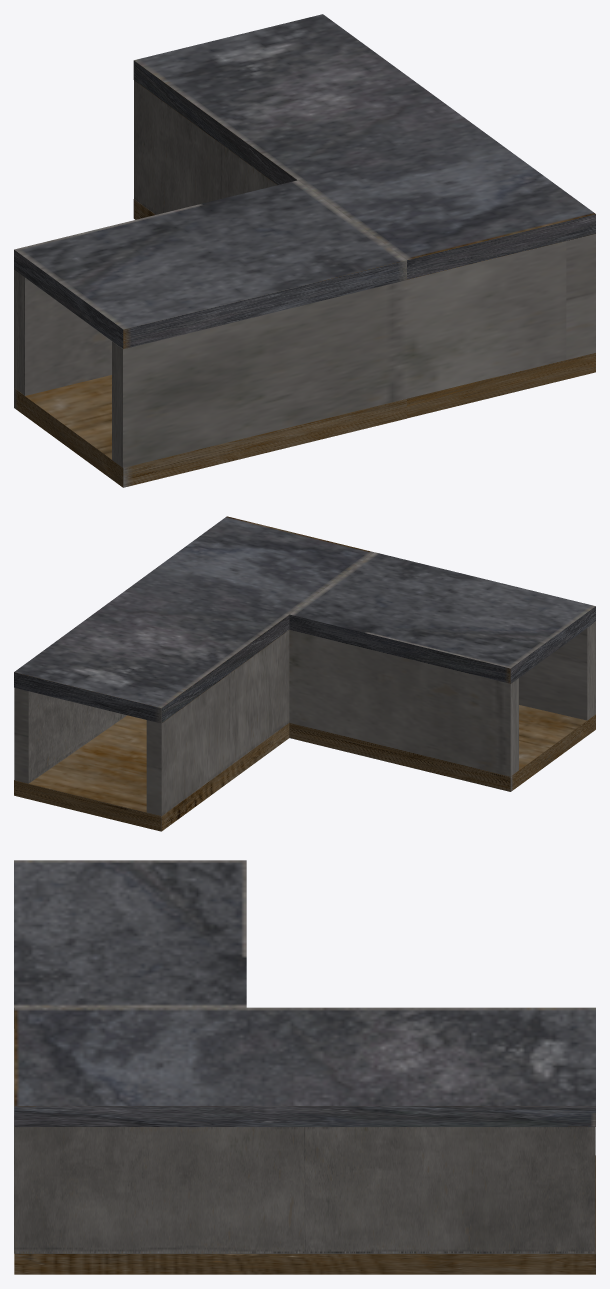
File: curved_left_tube.glb
The picture shows the model from 3 angles, top to bottom: view 1: azimuth 30°, elevation 25°; view 2: azimuth 150°, elevation 25°; view 3: azimuth 270°, elevation 25°; orthographic projection. The views are drawn at different scales.
Parts seen in each view (by area): view 1: ceiling, left_wall, right_wall, floor; view 2: ceiling, right_wall, floor, left_wall; view 3: ceiling, left_wall, floor.
Part boxes in pixels (left/top/right/bottom): ceiling: left=14, top=14, right=595, bottom=349; left_wall: left=112, top=234, right=595, bottom=467; right_wall: left=14, top=80, right=276, bottom=395; floor: left=14, top=199, right=595, bottom=487; ceiling: left=14, top=516, right=595, bottom=723; right_wall: left=146, top=630, right=518, bottom=815; floor: left=14, top=705, right=595, bottom=831; left_wall: left=14, top=622, right=595, bottom=783; ceiling: left=14, top=860, right=595, bottom=1126; left_wall: left=14, top=1029, right=595, bottom=1253; floor: left=14, top=1155, right=595, bottom=1274.
Bounding box in the file's own units: 50.02 × 16 × 50.03.
1 material, 1 textured.
